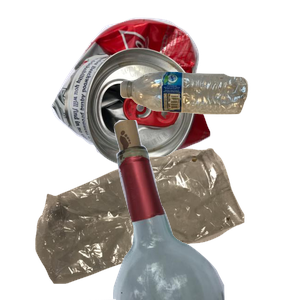glass: (89, 120, 300, 300)
metal: (48, 15, 251, 175)
plastic: (118, 69, 300, 176)
trash: (33, 145, 270, 300)
